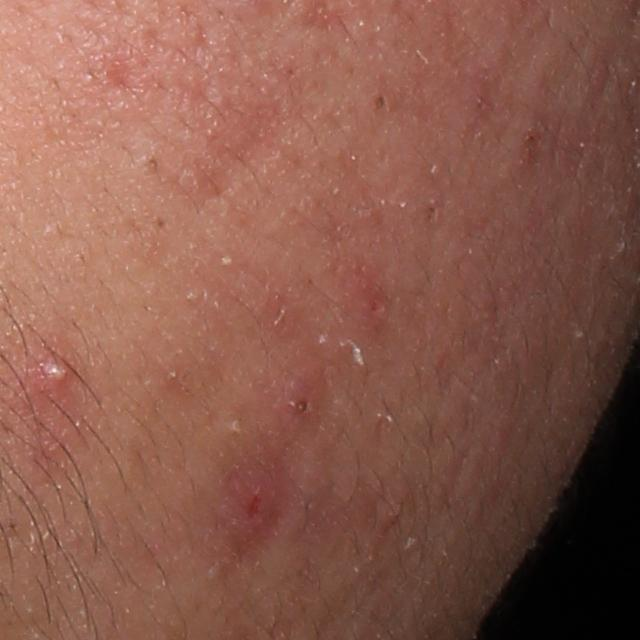comedo: (142, 151, 168, 180), (371, 90, 394, 117)
papule: (269, 359, 330, 428), (228, 480, 288, 541)
pustule: (27, 339, 82, 394)
